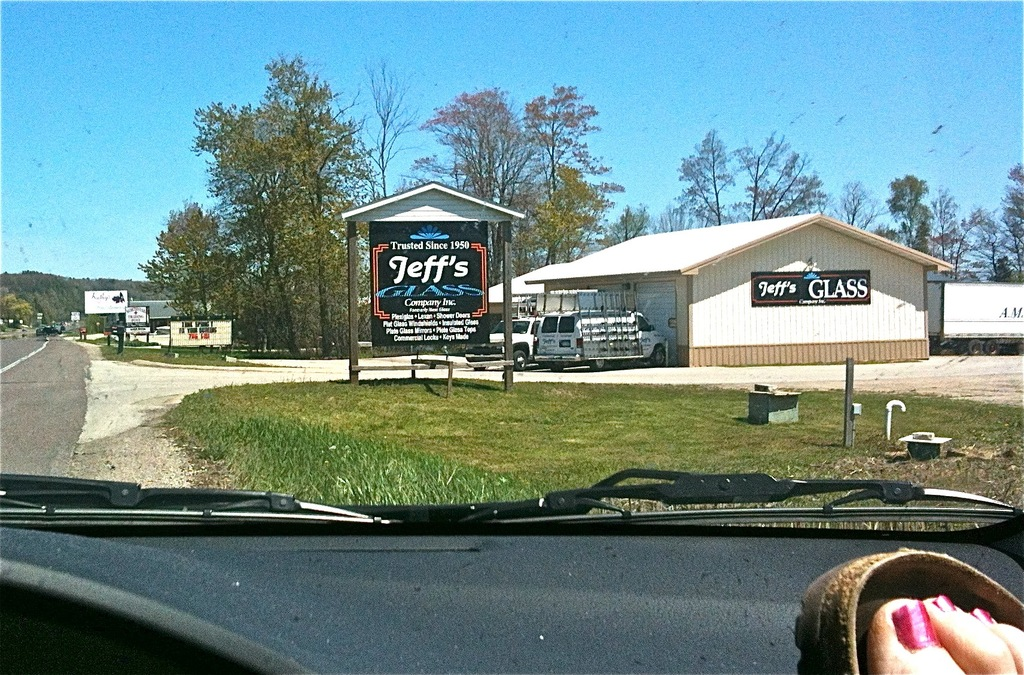Car: (0, 473, 1023, 674), (485, 311, 544, 366)
